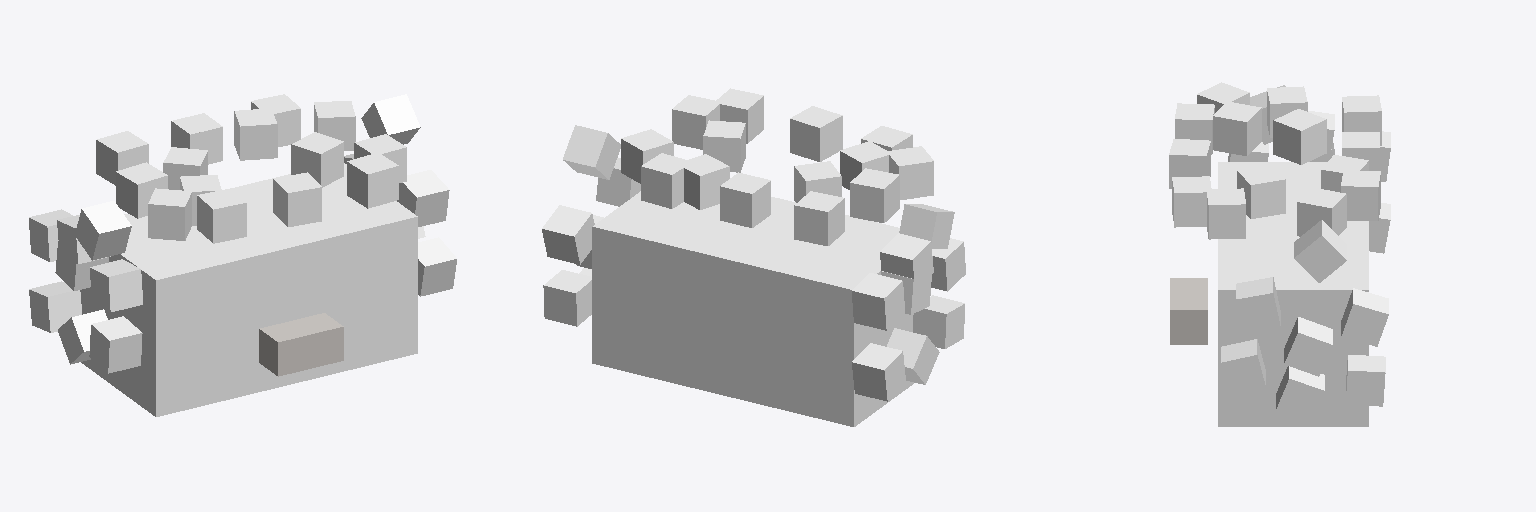
3 renders of one model, left to right at view 1: azimuth 30°, elevation 25°; view 2: azimuth 150°, elevation 25°; view 3: azimuth 270°, elevation 25°, orthographic.
Visible parts, largest first — view 1: Model; view 2: Model; view 3: Model.
Part boxes in pixels (x1,y1,x2,y2): Model: (29,94,456,416); Model: (542,88,965,426); Model: (1169,82,1390,426).
Size of the model in its own units: 21 by 12.48 by 11.75.
1 materials, 1 textured.